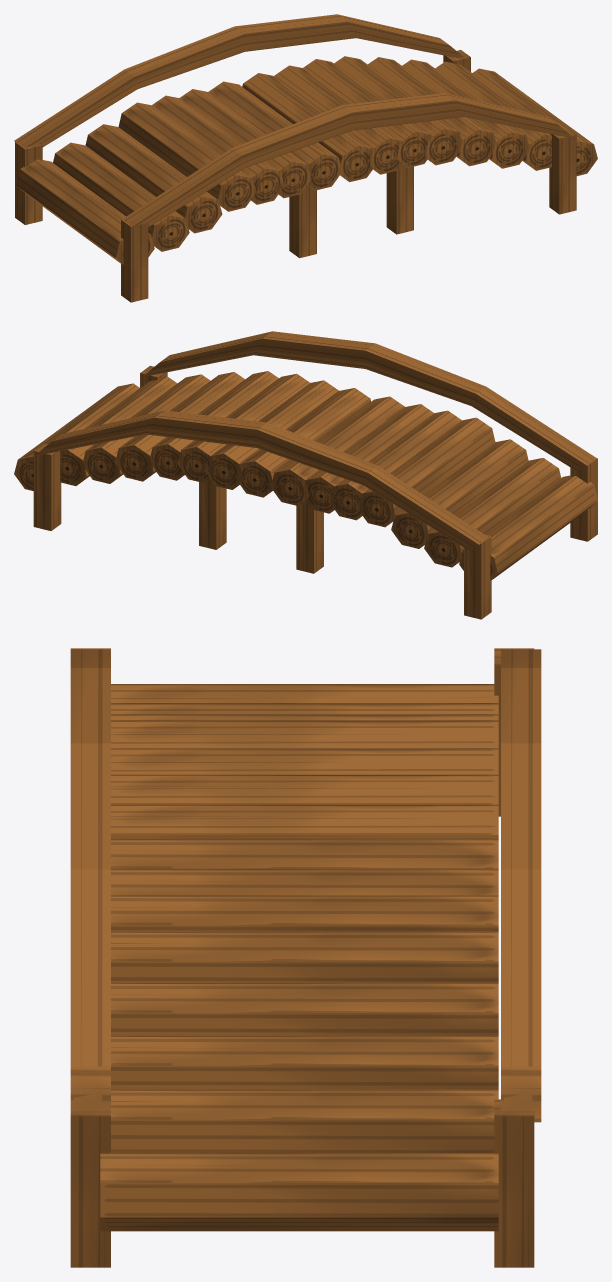
The model's file is Bridge.fbx.
3 renders of one model, top to bottom at view 1: azimuth 30°, elevation 25°; view 2: azimuth 150°, elevation 25°; view 3: azimuth 270°, elevation 25°, orthographic. The views are drawn at different scales.
Visible parts, largest first — view 1: Cube.033, Cube.034, Cylinder.008, Cylinder.012, Cylinder.011, Cylinder.010, Cylinder.007, Cylinder.015, Cylinder.013, Cylinder.014, Cylinder.006, Cylinder.005 (+10 smaller); view 2: Cube.034, Cube.033, Cylinder.008, Cylinder.012, Cylinder.011, Cylinder.010, Cylinder.007, Cylinder.015, Cylinder.013, Cylinder.006, Cylinder.014, Cylinder.005 (+10 smaller); view 3: Cylinder, Cylinder.001, Cylinder.002, Cylinder.003, Cylinder.004, Cube.034, Cube.033, Cylinder.005, Cylinder.015, Cylinder.007, Cylinder.014, Cylinder.012 (+7 smaller).
Boxes of the visible parts, x1,y1,x2,y2 form: Cube.033: (122,93,574,227); Cube.034: (14,14,463,147); Cylinder.008: (16,159,154,264); Cylinder.012: (118,102,256,211); Cylinder.011: (85,124,222,233); Cylinder.010: (53,142,189,251); Cylinder.007: (242,73,373,182); Cylinder.015: (208,81,340,190); Cylinder.013: (152,95,284,204); Cylinder.014: (179,89,311,198); Cylinder.006: (274,65,407,174); Cylinder.005: (303,59,431,167); Cube.034: (34,410,488,550); Cube.033: (142,331,596,471); Cylinder.008: (459,475,597,580); Cylinder.012: (357,417,495,527); Cylinder.011: (391,439,528,548); Cylinder.010: (424,458,561,567); Cylinder.007: (235,388,371,497); Cylinder.015: (271,396,404,505); Cylinder.013: (328,410,461,520); Cylinder.006: (204,380,338,489); Cylinder.014: (302,404,433,513); Cylinder.005: (177,373,309,483); Cylinder: (100,1153,498,1231); Cylinder.001: (111,1089,498,1152); Cylinder.002: (111,1035,498,1089); Cylinder.003: (111,982,498,1035); Cylinder.004: (111,931,498,982); Cube.034: (501,649,541,1122); Cube.033: (70,649,110,1110); Cylinder.005: (111,895,498,931); Cylinder.015: (111,804,498,838); Cylinder.007: (111,838,498,868); Cylinder.014: (111,774,498,804); Cylinder.012: (111,720,498,748).
Bounding box in the file's own units: 30356 × 9191 × 12832.
